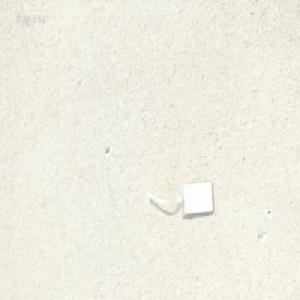LuggageTag: (143, 178, 214, 218)
